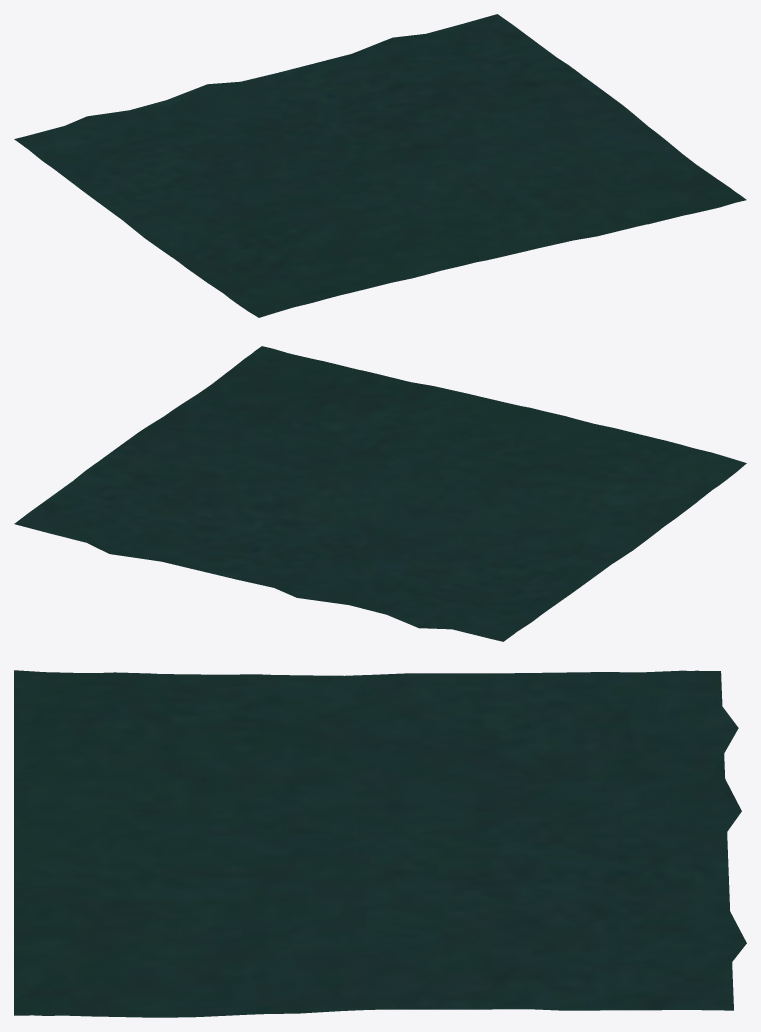
3 renders of one model, top to bottom at view 1: azimuth 30°, elevation 25°; view 2: azimuth 150°, elevation 25°; view 3: azimuth 270°, elevation 25°, orthographic. The views are drawn at different scales.
Size of the model in its own units: 52.22 by 0.866 by 47.07.
2 materials, 2 textured.
